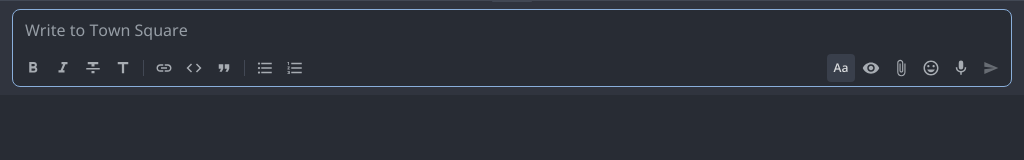
Scenario: an edited text runs as a command again; another failure keeps the text with its error
Type "/nope" into the text box named "Message" at (512,30), box [13,10,1011,50]
Then press Escape, Enter
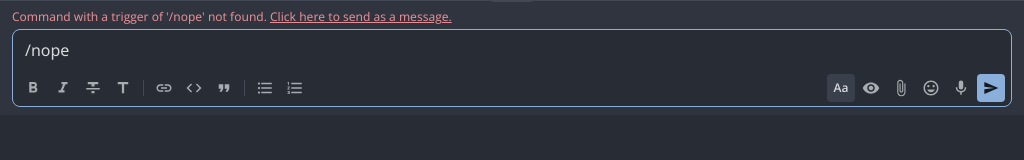
expect the message "Command with a trigger of '/nope' not found. Click here to send as a message." is shown: met, box [12,8,452,25]
Type "x" into the text box named "Message" at (512,50), box [13,30,1011,70]
Then press Escape, Enter
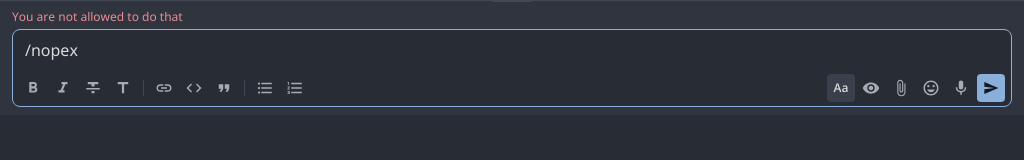
expect the text box named "Message" holds "/nopex": met, box [13,30,1011,70]
expect the message no longer shows "Command with a trigger": met, box [12,8,183,25]
